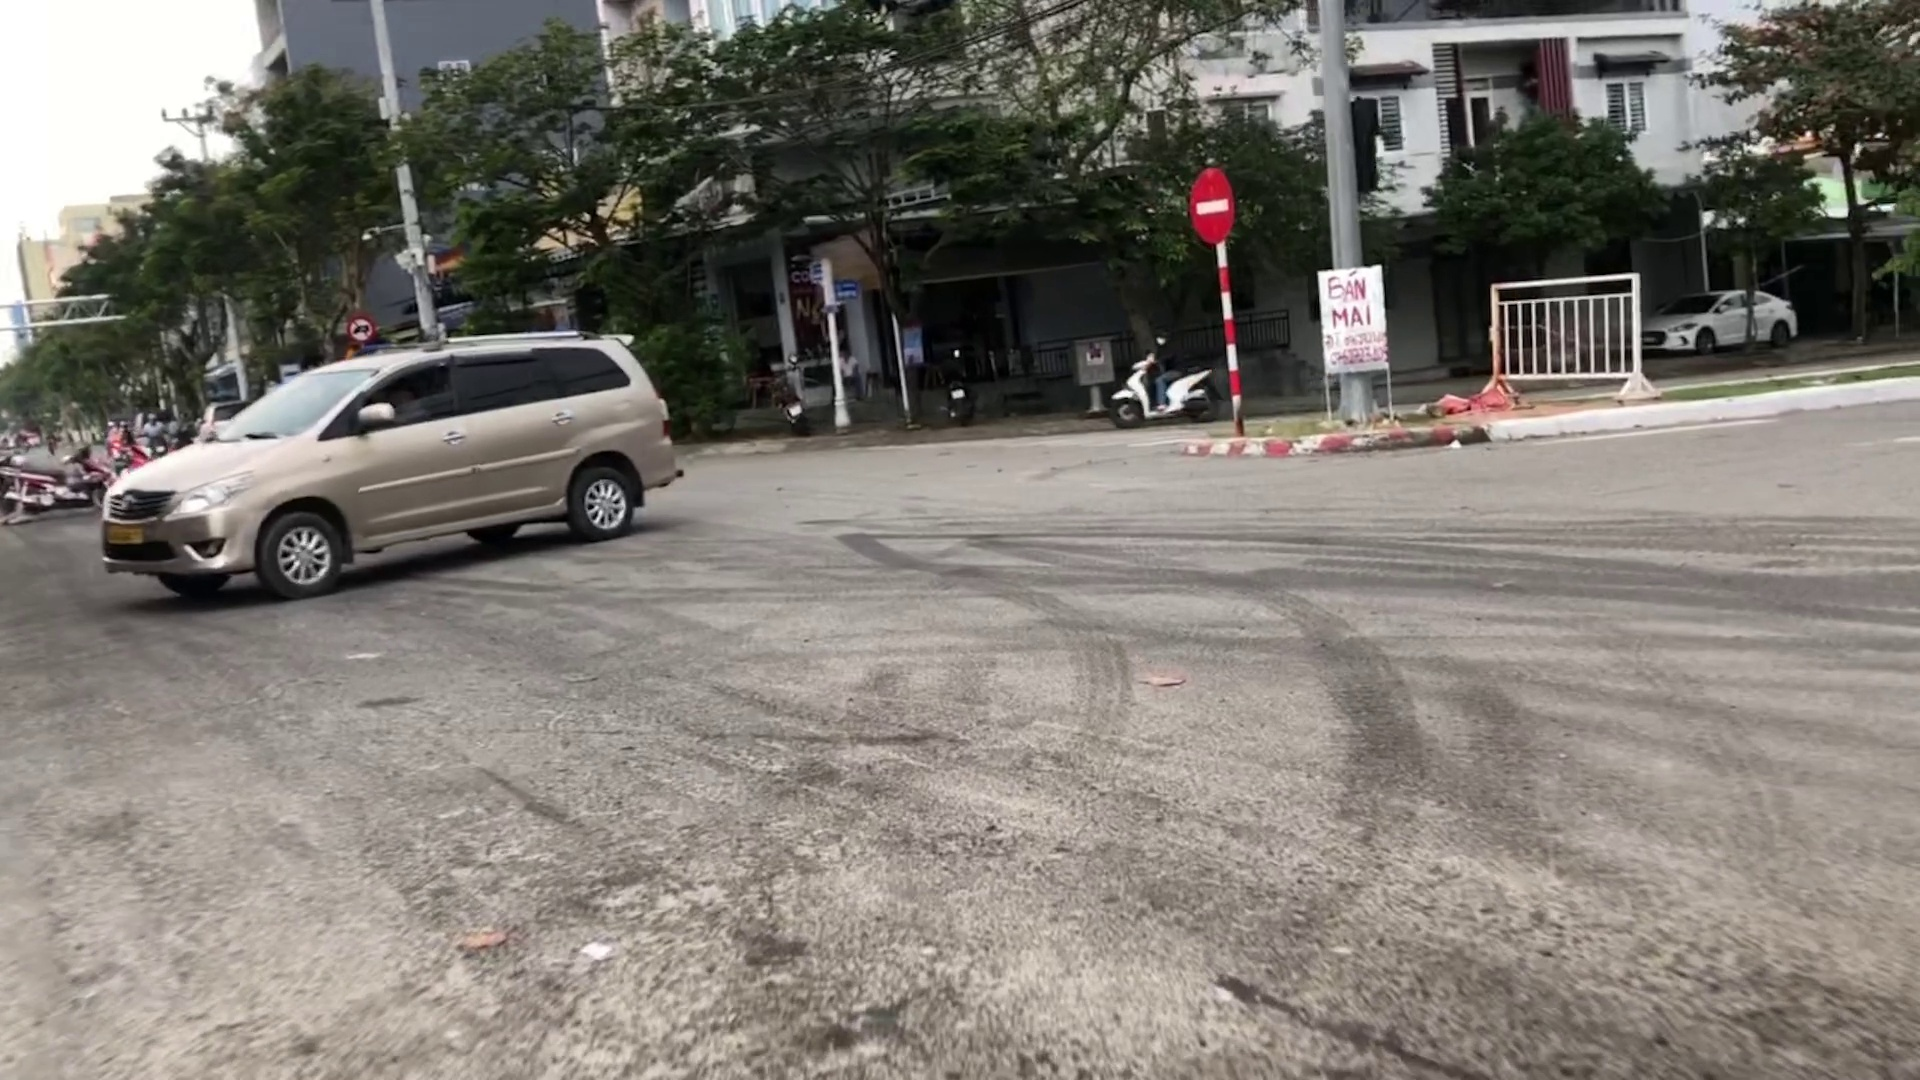Cam di nguoc chieu: (1188, 160, 1233, 247)
